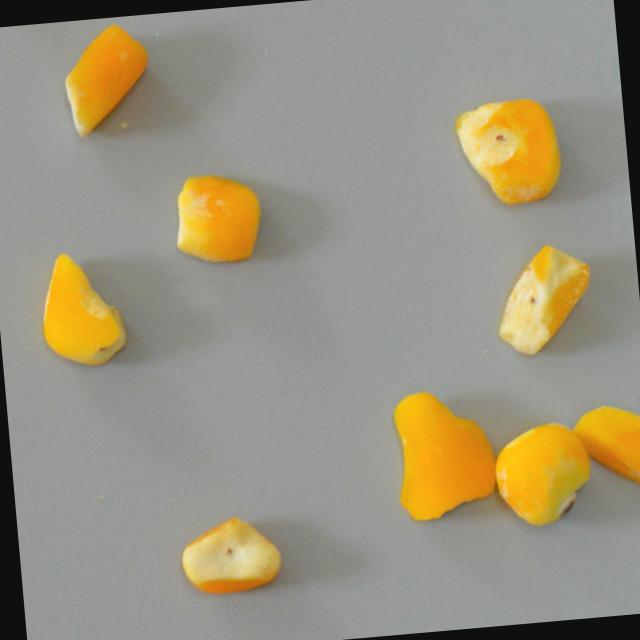dañado: (385, 378, 504, 529), (55, 17, 158, 144), (33, 246, 133, 373), (489, 413, 596, 530), (165, 164, 269, 270), (572, 398, 640, 499)
punto_negro: (450, 85, 569, 215), (489, 236, 603, 362), (170, 503, 290, 602)
